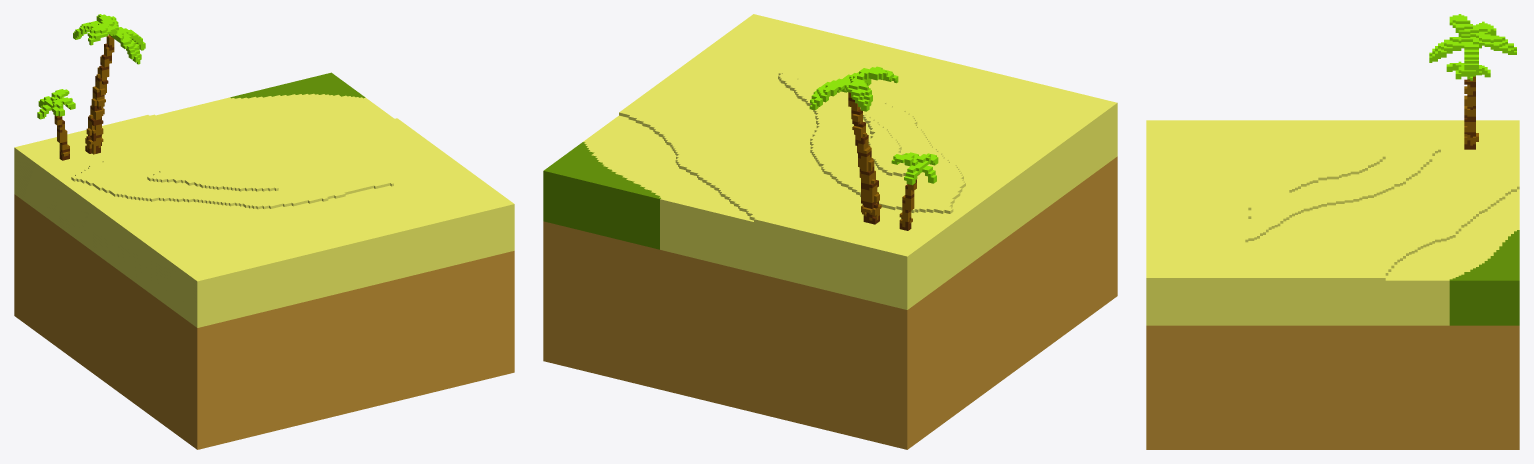
3 views of the same model, side by side, from view 1: azimuth 30°, elevation 25°; view 2: azimuth 150°, elevation 25°; view 3: azimuth 270°, elevation 25° (orthographic). The views are drawn at different scales.
Parts seen in each view (by area): view 1: 1L.001; view 2: 1L.001; view 3: 1L.001.
Part boxes in pixels (left/top/right/bottom): 1L.001: left=14, top=14, right=514, bottom=449; 1L.001: left=543, top=14, right=1117, bottom=449; 1L.001: left=1146, top=14, right=1519, bottom=449.
Bounding box in the file's own units: 12.8 × 11.4 × 12.8.
1 material, 1 textured.
